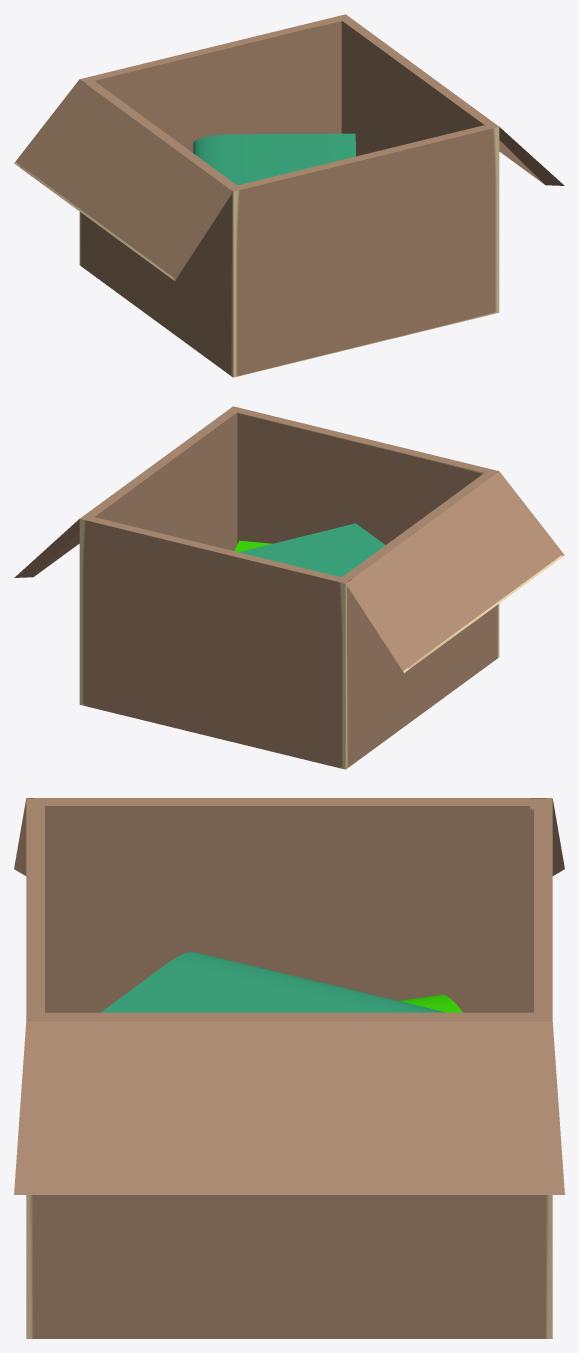
The model's file is Cardboard box 2.glb.
3 views of the same model, one above another, from view 1: azimuth 30°, elevation 25°; view 2: azimuth 150°, elevation 25°; view 3: azimuth 270°, elevation 25° (orthographic). The views are drawn at different scales.
Parts seen in each view (by area): view 1: Cube.001, Cylinder.005; view 2: Cube.001, Cylinder.005; view 3: Cube.001, Cylinder.005.
Boxes of the visible parts, left/top/right/bottom form: Cube.001: left=14, top=14, right=564, bottom=377; Cylinder.005: left=193, top=133, right=355, bottom=185; Cube.001: left=14, top=406, right=564, bottom=769; Cylinder.005: left=239, top=523, right=385, bottom=577; Cube.001: left=14, top=798, right=564, bottom=1338; Cylinder.005: left=101, top=951, right=446, bottom=1012.
Bounding box in the file's own units: 0.2947 × 0.1342 × 0.2105.
8 materials, 1 textured.
